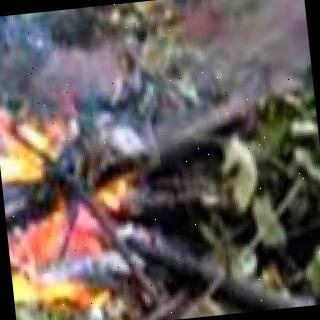fire: (0, 11, 76, 320)
